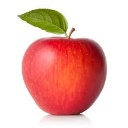apple: (19, 35, 108, 117)
